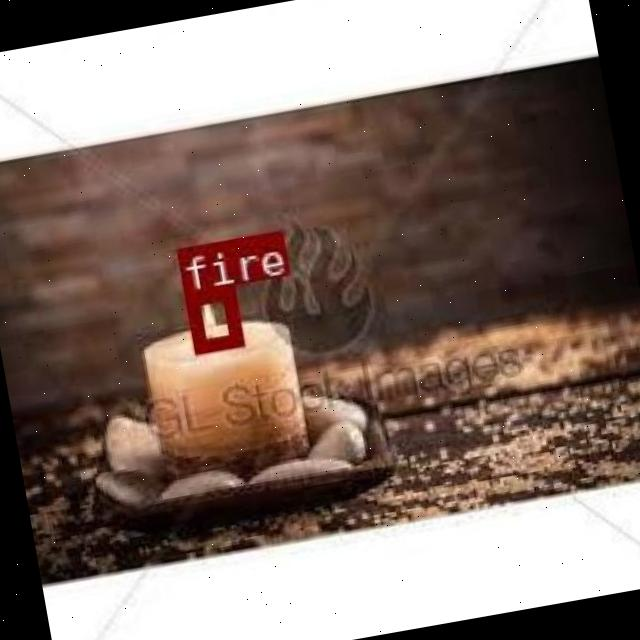fire: (182, 284, 238, 349)
